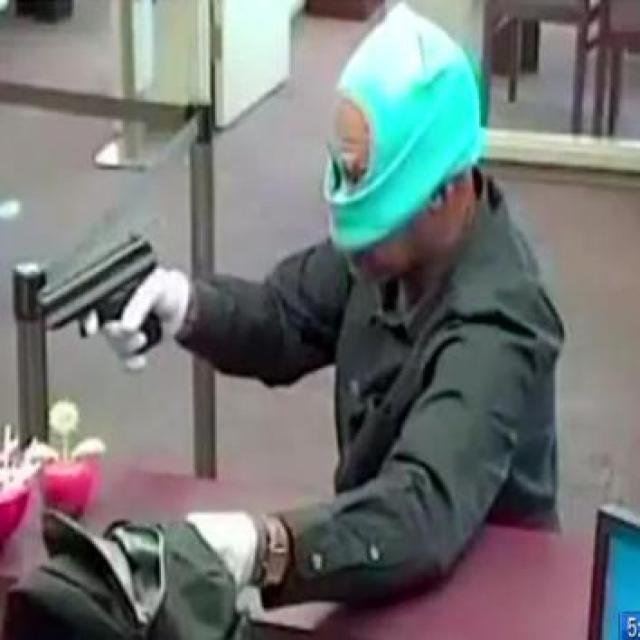weapon: (33, 234, 168, 360)
